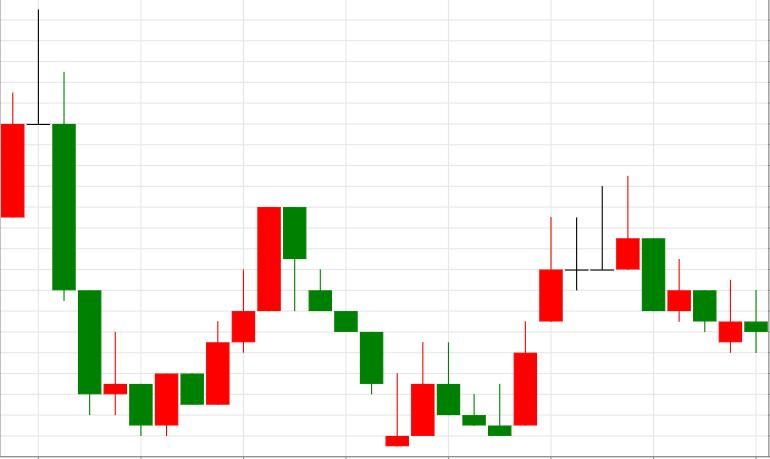shooting_star_fall: (513, 176, 640, 426)
three_white_soldiers_rise: (27, 9, 281, 437)
